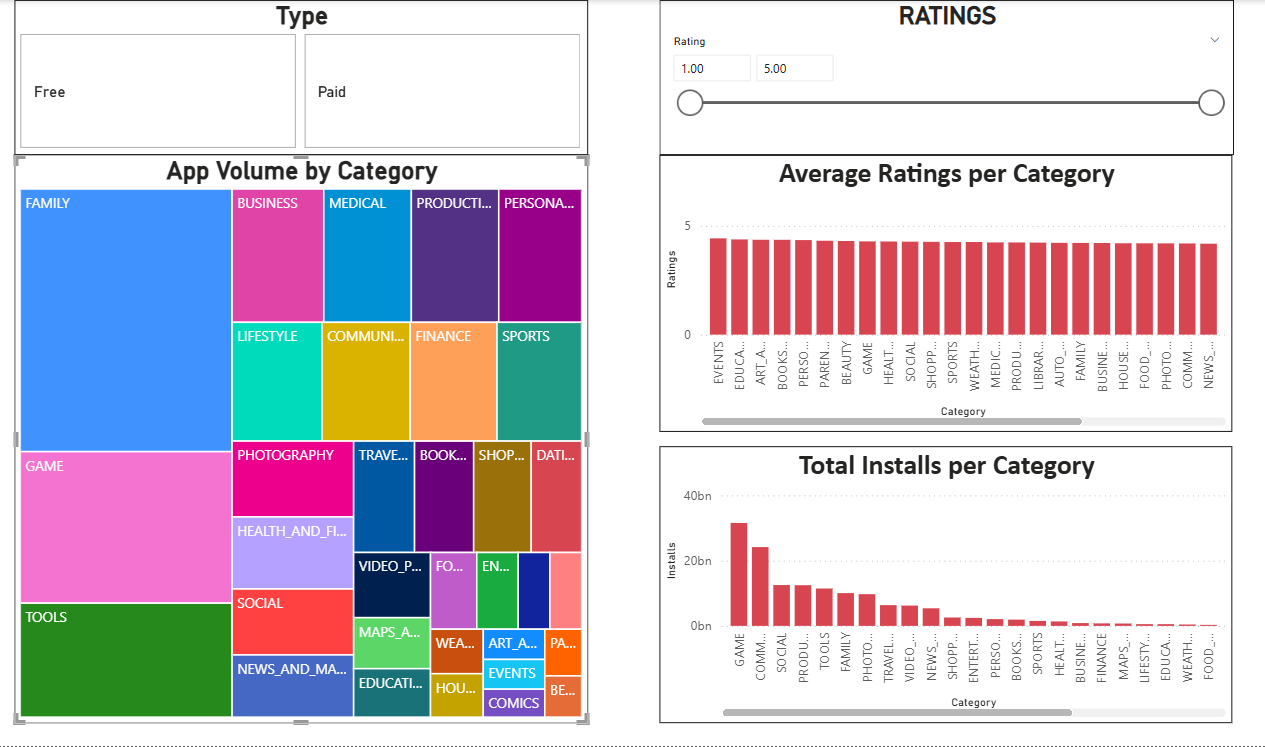

Layout of this report page (visuals, bound fields, positions):
{"tool":"powerbi","page":{"name":"Category Insights-“Ratings by Category”","canvas":[1280,720],"ordinal":1},"visuals":[{"type":"treemap","title":"App Volume by Category","fields":{"Values":["CountNonNull(google cleaned for Power BI.App)"],"Details":["google cleaned for Power BI.Category"]},"box":[16.9,149.6,553.8,548.9],"z":0},{"type":"advancedSlicerVisual","fields":{"Values":["google cleaned for Power BI.Type"]},"box":[16.9,0,553.8,149.6],"z":1},{"type":"slicer","title":"RATINGS","fields":{"Values":["google cleaned for Power BI.Rating"]},"box":[639.5,0,554.4,149.6],"z":2},{"type":"clusteredColumnChart","title":"Average Ratings per Category","fields":{"Category":["google cleaned for Power BI.Category"],"Y":["Avg(google cleaned for Power BI.Rating)"]},"box":[639.5,149.6,553,267.6],"z":3},{"type":"clusteredColumnChart","title":"Total Installs per Category","fields":{"Category":["google cleaned for Power BI.Category"],"Y":["Sum(google cleaned for Power BI.Installs)"]},"box":[639.5,430.9,553,267.6],"z":4}]}

Visuals, with their boxes on the page's 1280x720 design canvas (x1, y1, x2, y2). These are canvas units, not pixel positions in the 1265x747 screenshot, which may show the page scaled, cropped or inside an application window:
"App Volume by Category" treemap: x1=17 y1=150 x2=571 y2=698
advancedSlicerVisual - google cleaned for Power BI.Type: x1=17 y1=0 x2=571 y2=150
"RATINGS" slicer: x1=640 y1=0 x2=1194 y2=150
"Average Ratings per Category" clusteredColumnChart: x1=640 y1=150 x2=1192 y2=417
"Total Installs per Category" clusteredColumnChart: x1=640 y1=431 x2=1192 y2=698
